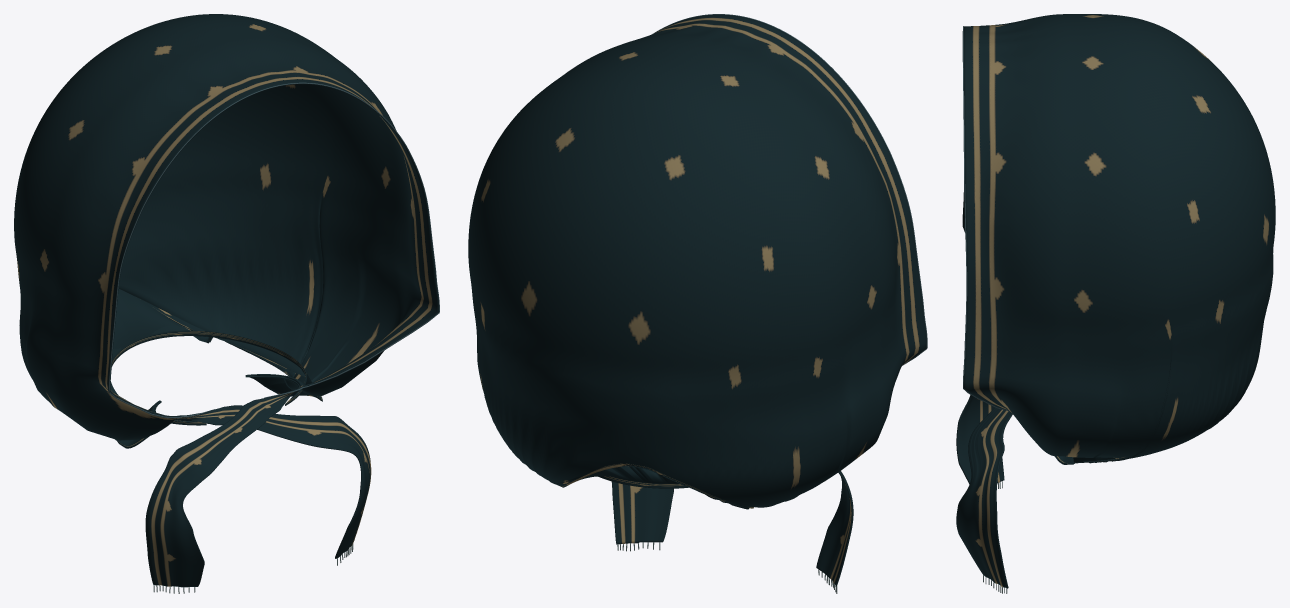
Rendered from Feminine-Feminine-ponytail-sweatshirt-pashmina251-headgear-10ab83d2.glb.
3 renders of one model, left to right at view 1: azimuth 30°, elevation 25°; view 2: azimuth 150°, elevation 25°; view 3: azimuth 270°, elevation 25°, orthographic. The views are drawn at different scales.
Visible parts, largest first — view 1: 226 headgear / Headwear / continuous woven pashmina239, 226 headgear / Headwear / face edge239; view 2: 226 headgear / Headwear / continuous woven pashmina239, 226 headgear / Headwear / face edge239; view 3: 226 headgear / Headwear / continuous woven pashmina239, 226 headgear / Headwear / face edge239.
Boxes of the visible parts, <box> form: 226 headgear / Headwear / continuous woven pashmina239: <box>14,14,438,587</box>; 226 headgear / Headwear / face edge239: <box>109,82,439,418</box>; 226 headgear / Headwear / continuous woven pashmina239: <box>468,14,926,586</box>; 226 headgear / Headwear / face edge239: <box>653,14,927,365</box>; 226 headgear / Headwear / continuous woven pashmina239: <box>956,14,1275,588</box>; 226 headgear / Headwear / face edge239: <box>962,26,1009,411</box>.
Bounding box in the file's own units: 0.8667 × 1.22 × 0.6853.
3 materials, 1 textured.
